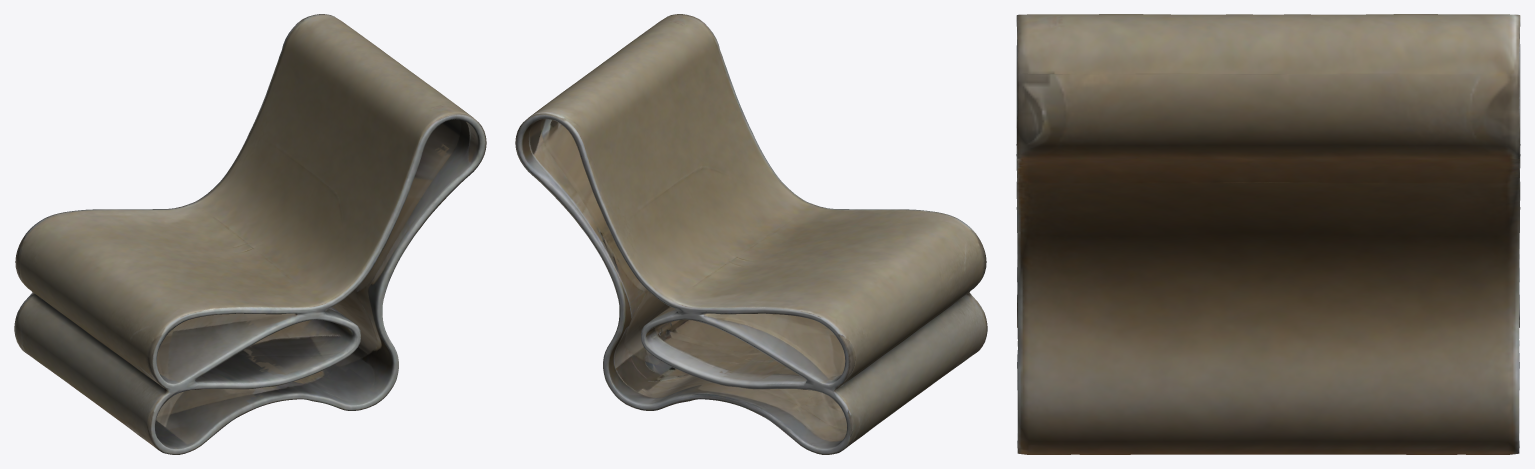
The model's file is Curved_Elegance_Chair_1107080740.fbx.
The picture shows the model from 3 angles, left to right: view 1: azimuth 30°, elevation 25°; view 2: azimuth 150°, elevation 25°; view 3: azimuth 270°, elevation 25°; orthographic projection. The views are drawn at different scales.
Parts seen in each view (by area): view 1: Mesh1_Mesh1.001; view 2: Mesh1_Mesh1.001; view 3: Mesh1_Mesh1.001.
Boxes of the visible parts, x1,y1,x2,y2 form: Mesh1_Mesh1.001: (14,14,486,454); Mesh1_Mesh1.001: (515,14,987,454); Mesh1_Mesh1.001: (1016,14,1520,454).
Bounding box in the file's own units: 200 × 156 × 141.
1 material, 1 textured.
